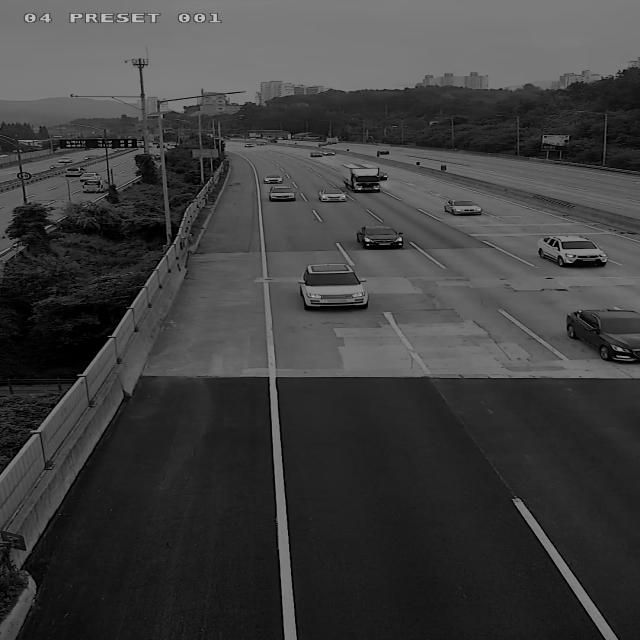Car: (567, 309, 640, 365), (298, 264, 368, 310), (537, 236, 607, 268), (311, 180, 354, 210), (357, 226, 405, 250), (444, 199, 482, 216), (267, 186, 297, 201), (61, 164, 84, 179), (82, 180, 110, 192), (373, 147, 393, 157), (263, 175, 284, 184), (306, 150, 324, 158), (322, 150, 337, 156), (243, 142, 254, 148), (255, 142, 266, 146)
Truck: (342, 164, 390, 192)
